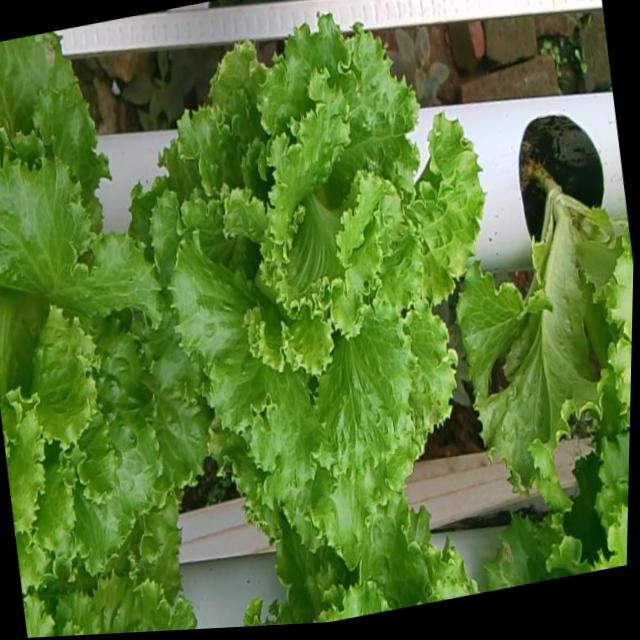Mature: (144, 0, 483, 542), (0, 134, 205, 566)
